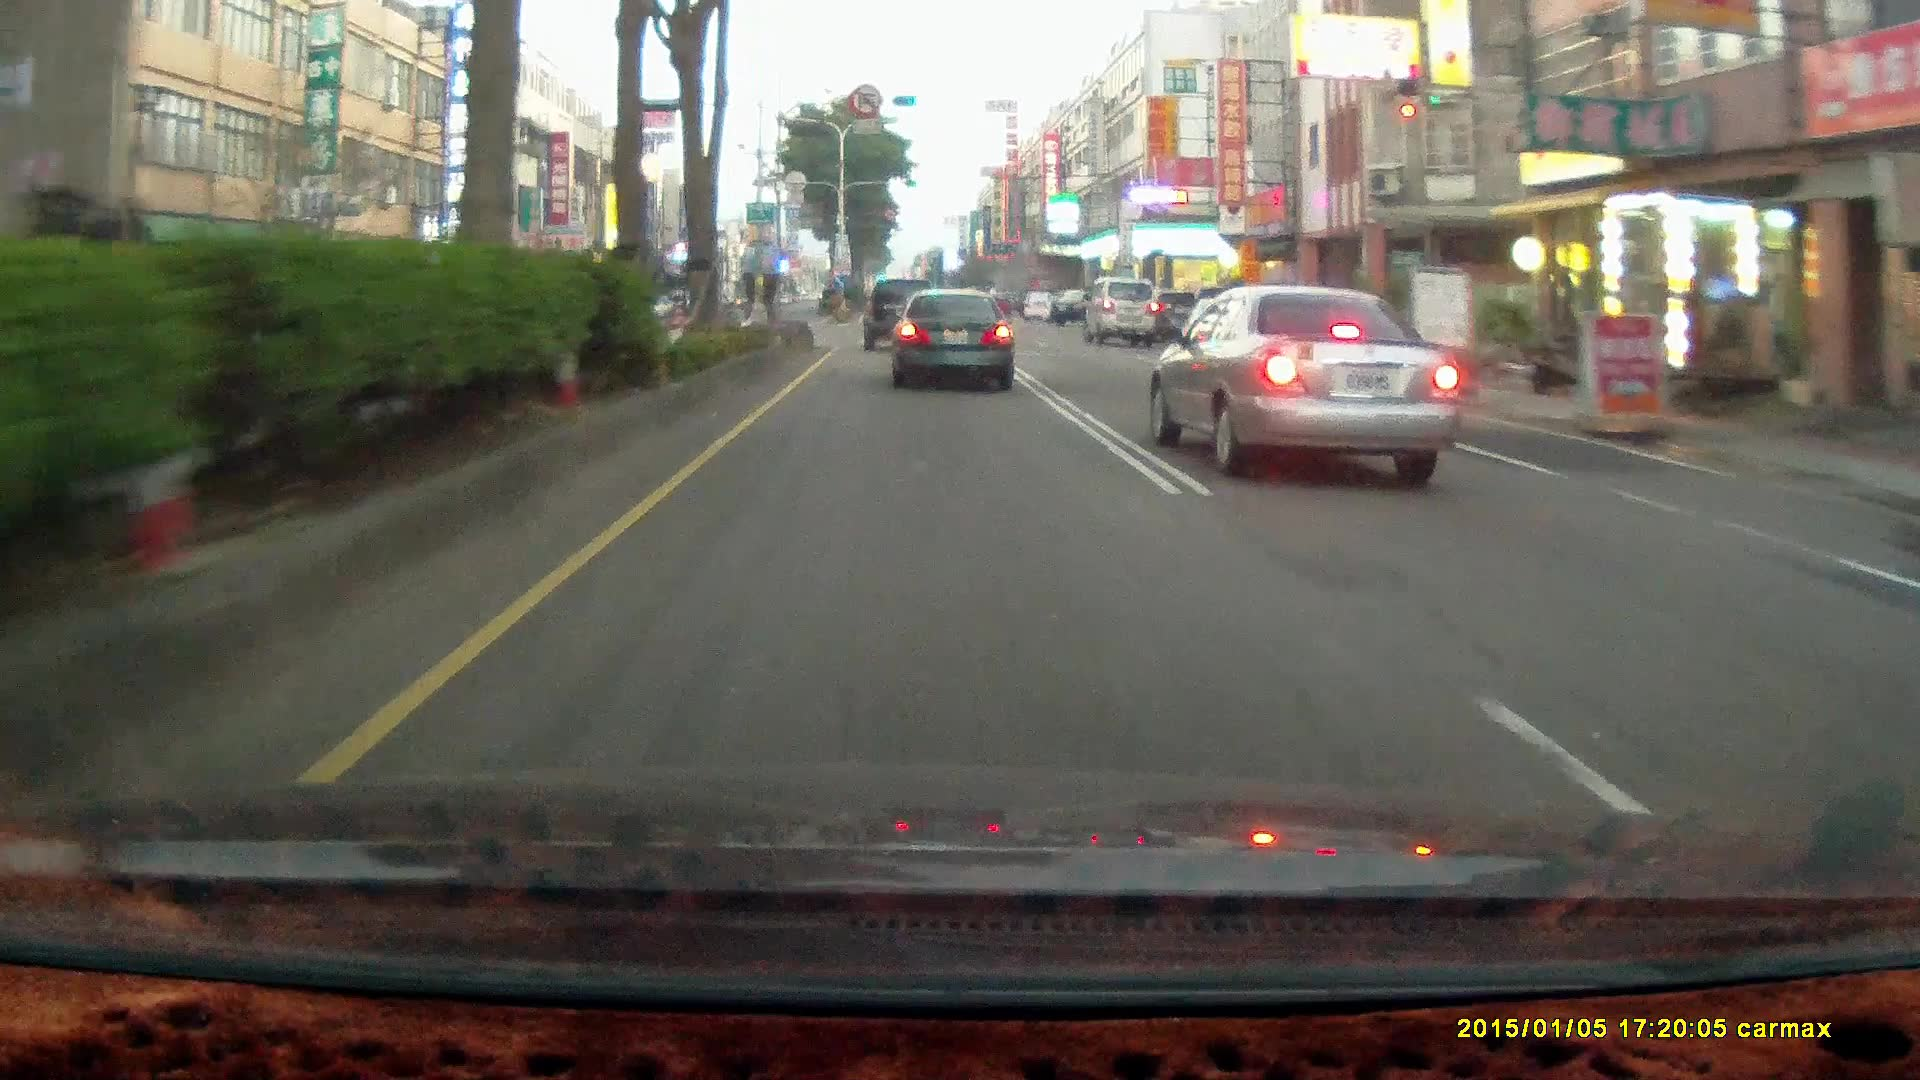vehicle: (1149, 286, 1461, 473), (890, 287, 1021, 396), (890, 286, 1011, 390), (862, 278, 942, 355), (861, 282, 938, 355), (1083, 276, 1160, 344), (1083, 278, 1160, 347), (1051, 284, 1108, 323), (1023, 287, 1054, 316)
